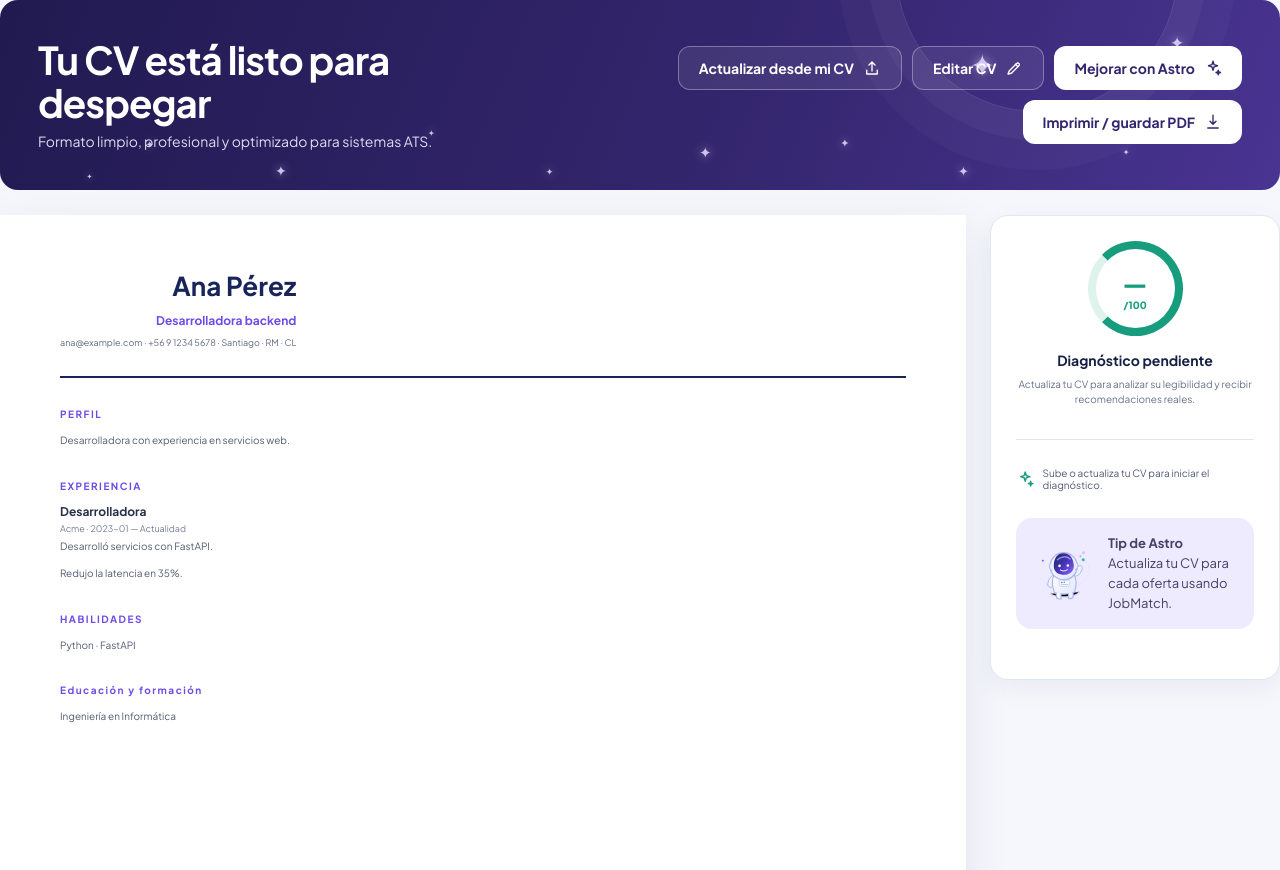
Test: CvModule › lets the user adapt an Astro suggestion before applying it
The width and height of the screenshot is (1280, 870).
Click the button "Mejorar con Astro" at (1148, 68), box [1054,46,1242,90]
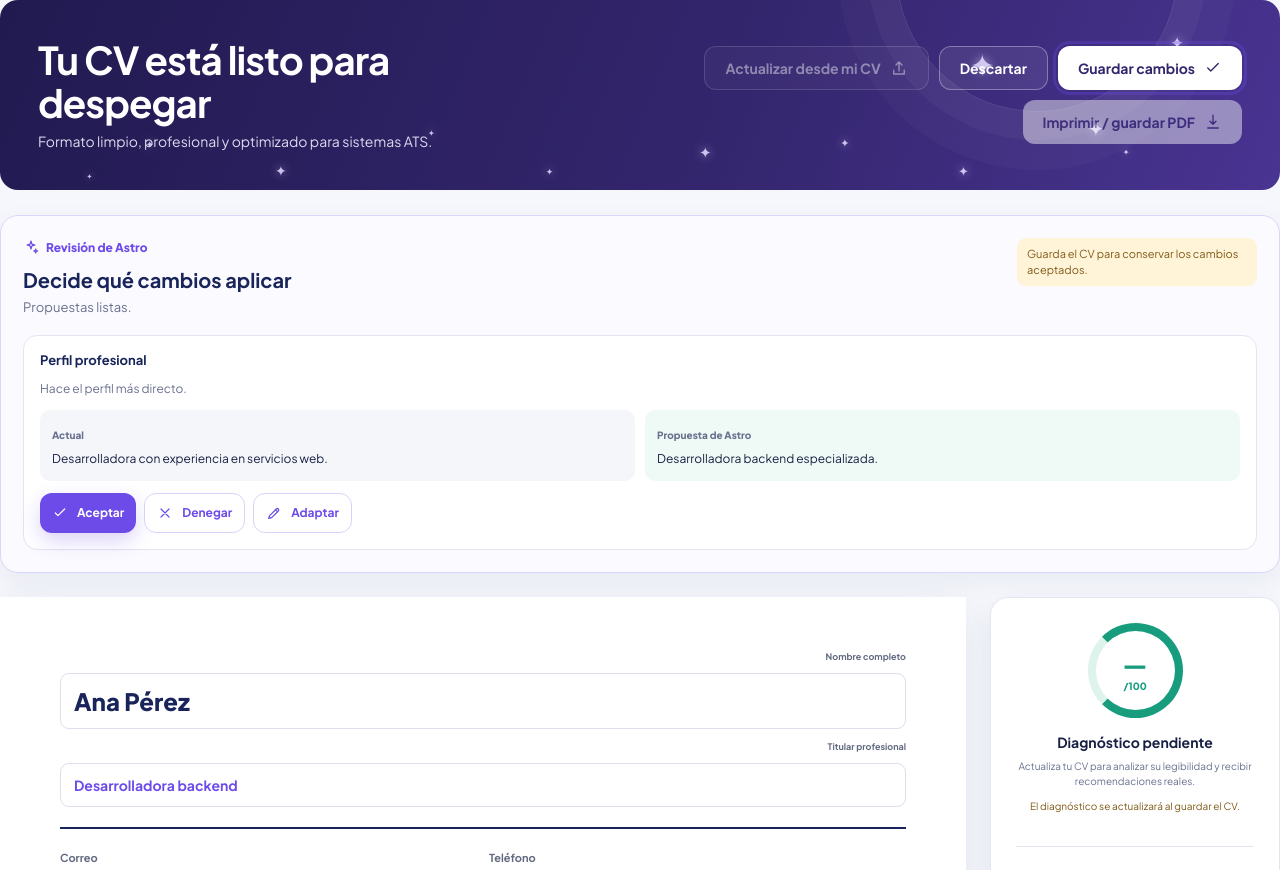
Result: the button "Adaptar" is shown
Click the button "Adaptar" at (303, 513), box [253,493,352,533]
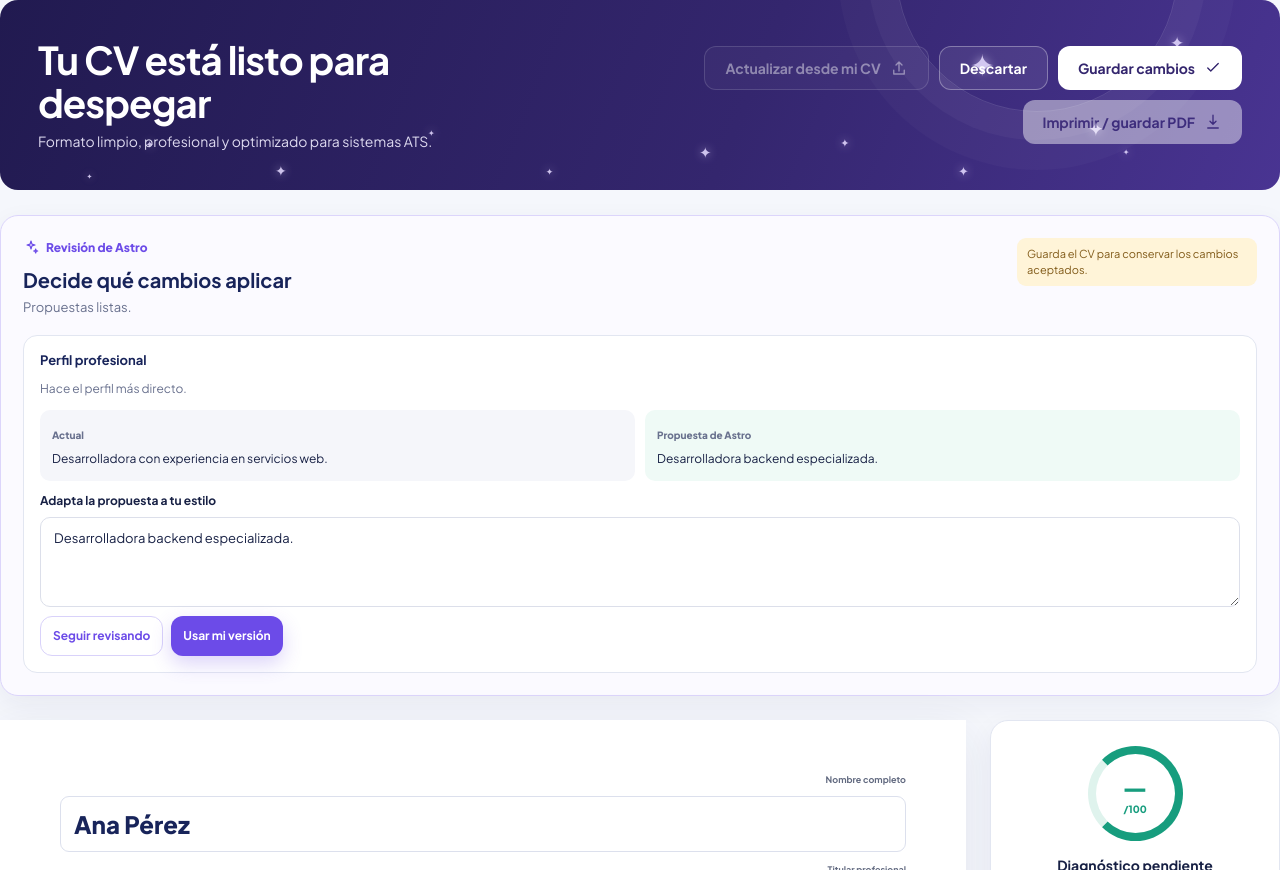
Replace the text in the text box labelled "Adapta la propuesta a tu estilo" with "Mi versión adaptada." at (640, 562), box [40,517,1240,607]
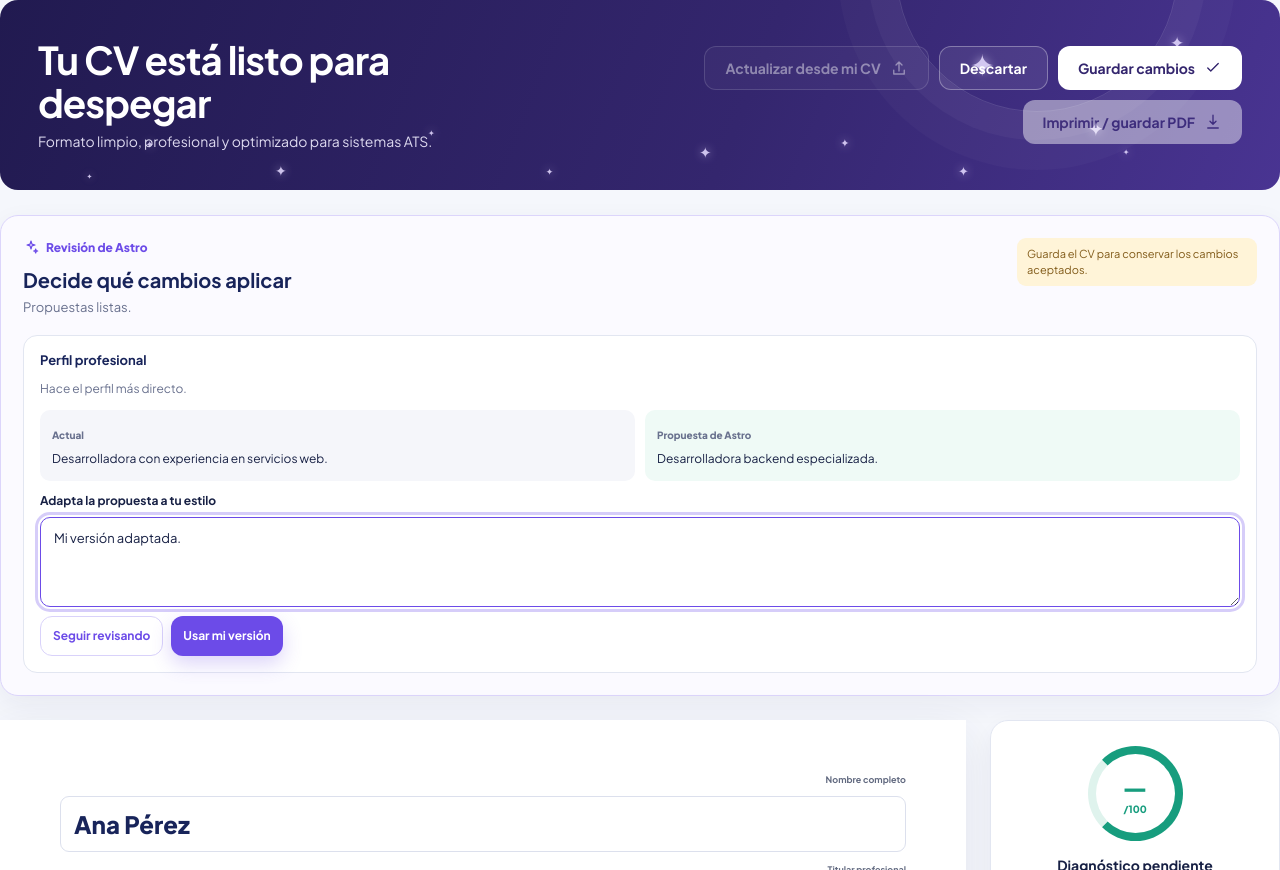
Click the button "Usar mi versión" at (227, 636), box [171,616,283,656]
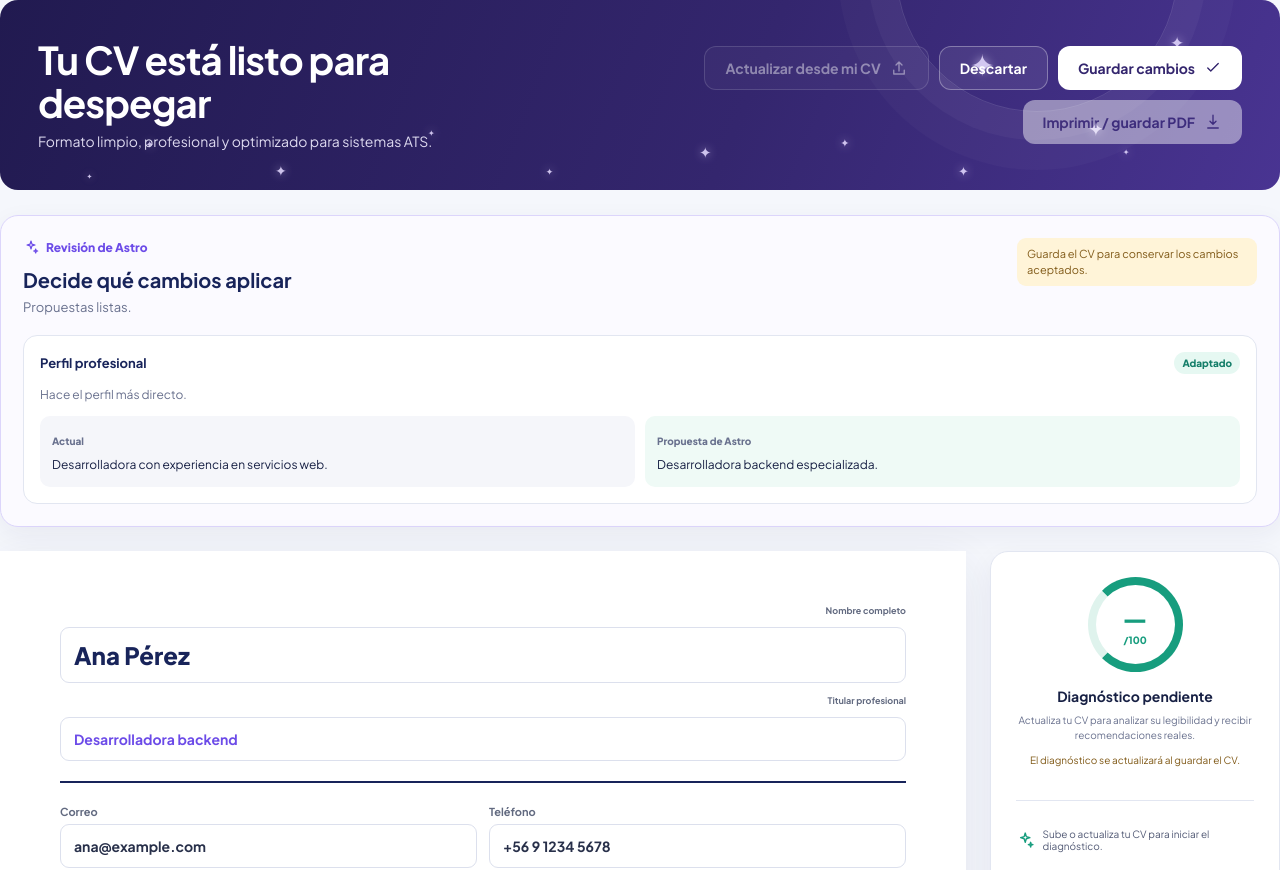
Result: the text "Adaptado" is shown at [1174,352,1240,374]
